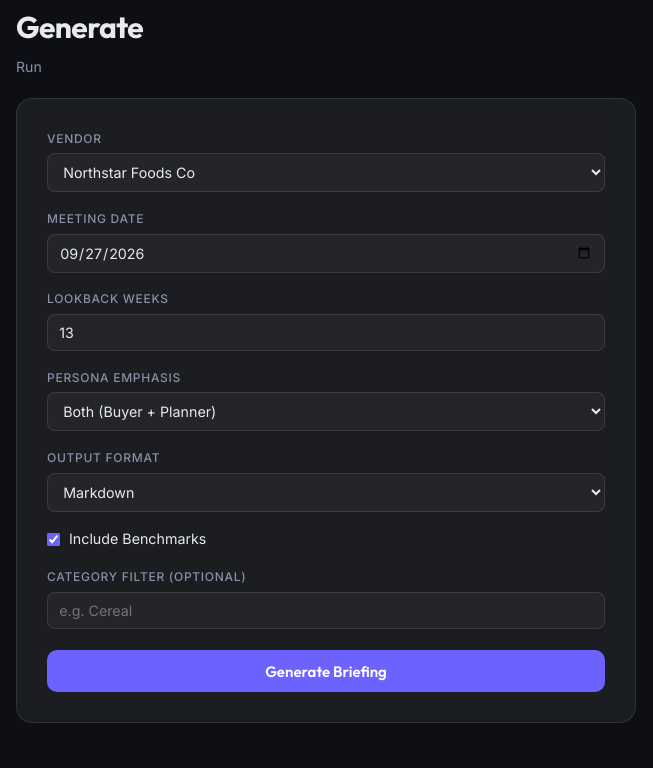
Test: BriefingCreateForm › shows 'Running compute engines' status while engines phase is active
(page scrolled)
Click the button "Generate Briefing". click: coordinates (326, 671)
box: [47,650,605,692]
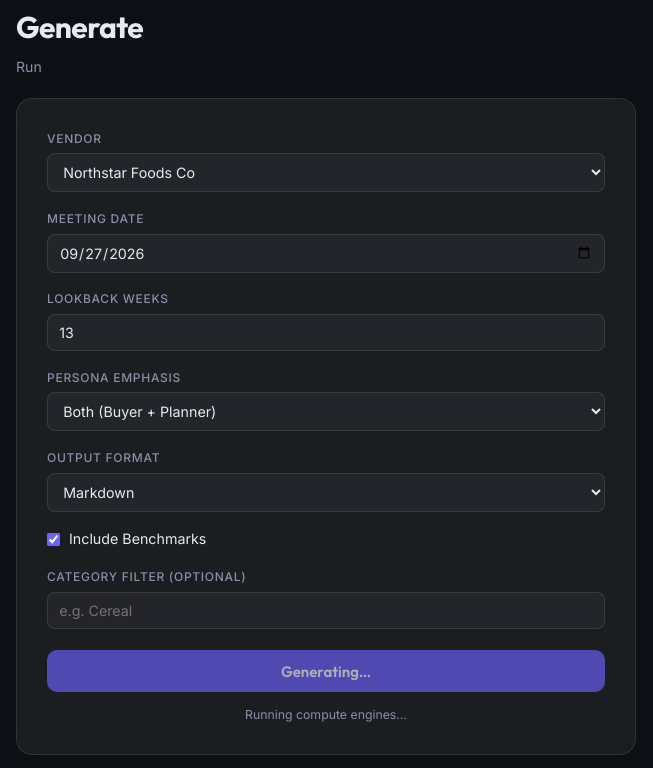
Now the text "Running compute engines…" is shown, box [245,706,407,722]
Now the button "Generating…" is disabled, box [47,650,605,692]
